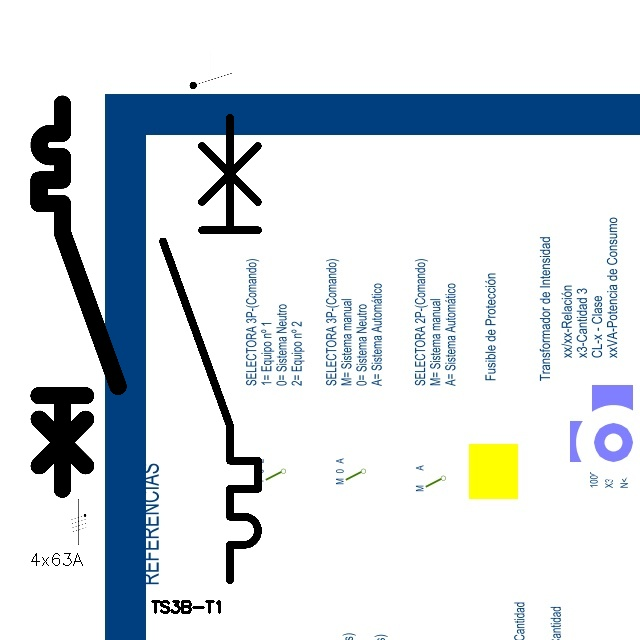interruptor_termomagnetico: (151, 106, 270, 592), (29, 94, 128, 499)
